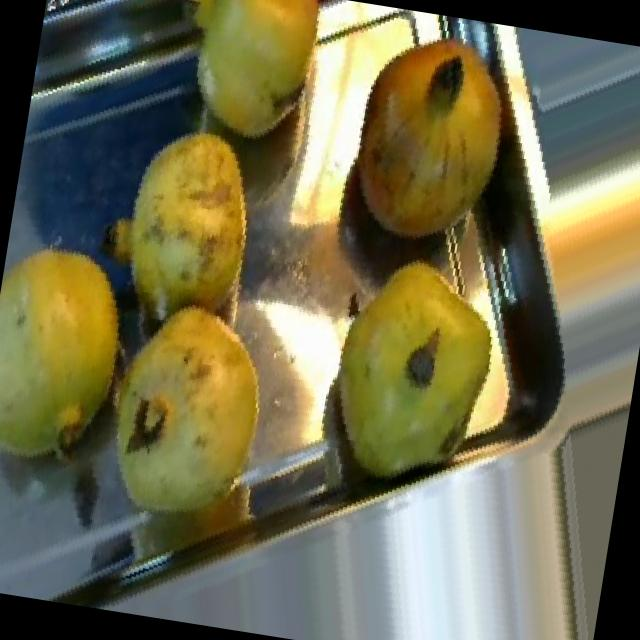fruit: (282, 220, 556, 524), (312, 1, 593, 294), (70, 272, 302, 557), (80, 99, 282, 339), (149, 0, 356, 173)
